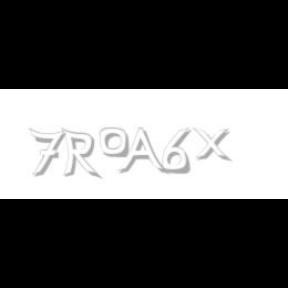6: (162, 128, 190, 176)
7: (30, 128, 66, 178)
A: (118, 128, 166, 176)
R: (61, 128, 99, 180)
o: (100, 128, 128, 158)
x: (193, 128, 235, 162)
